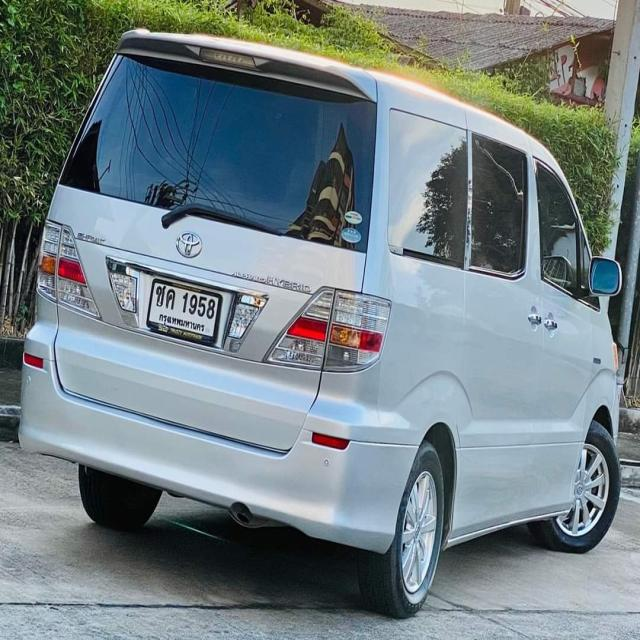license_plate: (142, 274, 226, 349)
